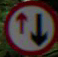Two way: (2, 7, 51, 48)
